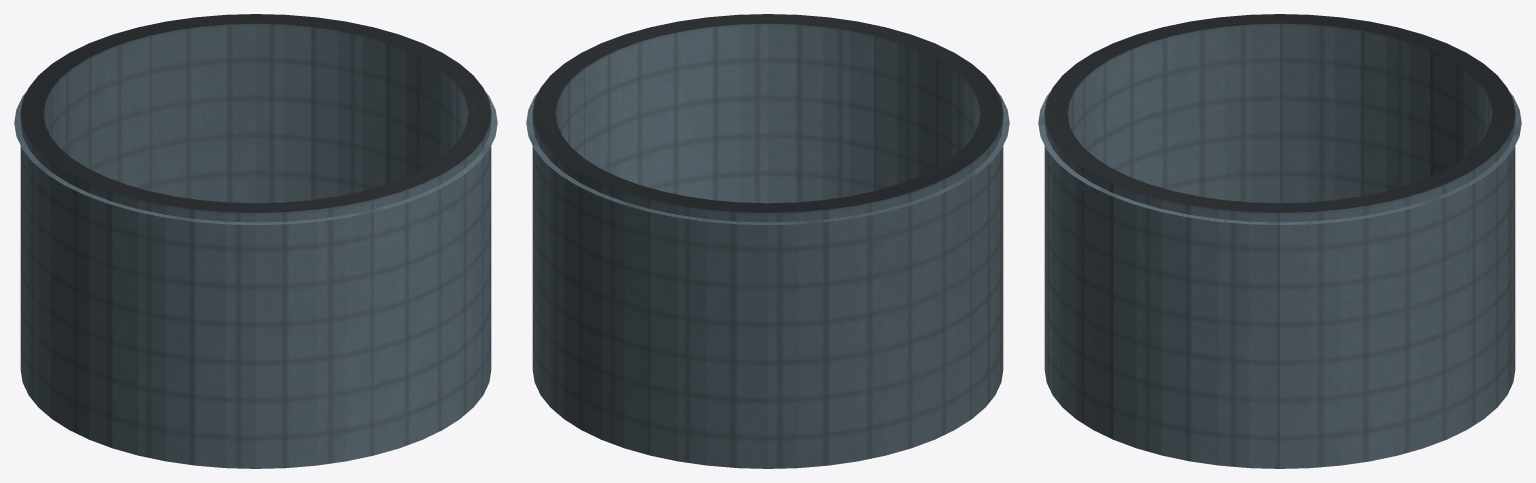
The model's file is hot_tub.glb.
The picture shows the model from 3 angles, left to right: view 1: azimuth 30°, elevation 25°; view 2: azimuth 150°, elevation 25°; view 3: azimuth 270°, elevation 25°; orthographic projection.
Visible parts, largest first — view 1: core_hot_tub; view 2: core_hot_tub; view 3: core_hot_tub.
Part boxes in pixels (x1=…): core_hot_tub: x1=14, y1=14, x2=497, y2=468; core_hot_tub: x1=526, y1=14, x2=1009, y2=468; core_hot_tub: x1=1038, y1=14, x2=1521, y2=468.
Bounding box in the file's own units: 2.67 × 1.56 × 2.67.
Materials: 2 (2 with a texture image).
